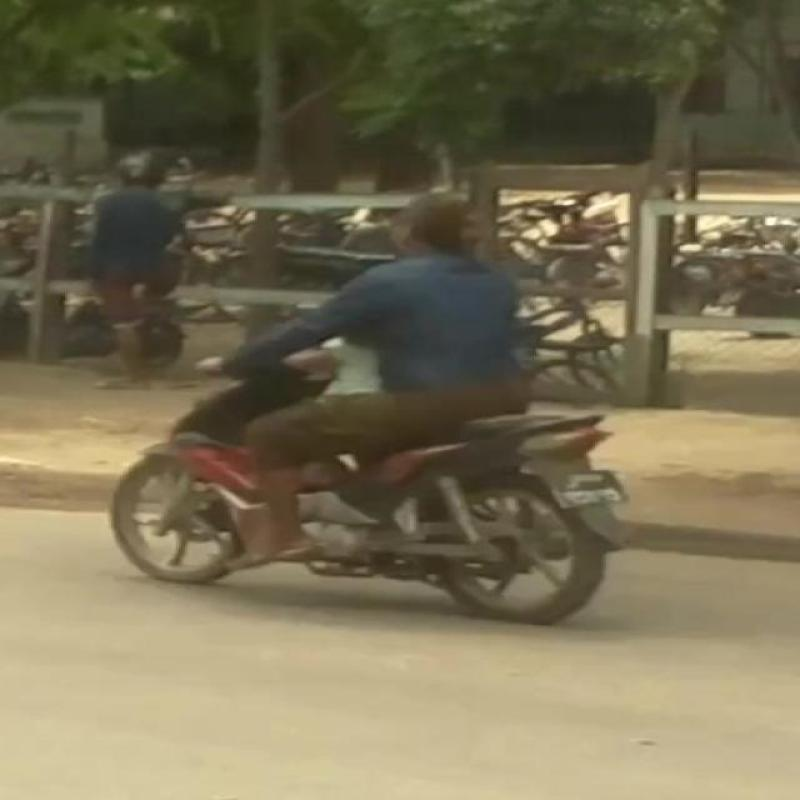nohelmet: (396, 179, 518, 267)
